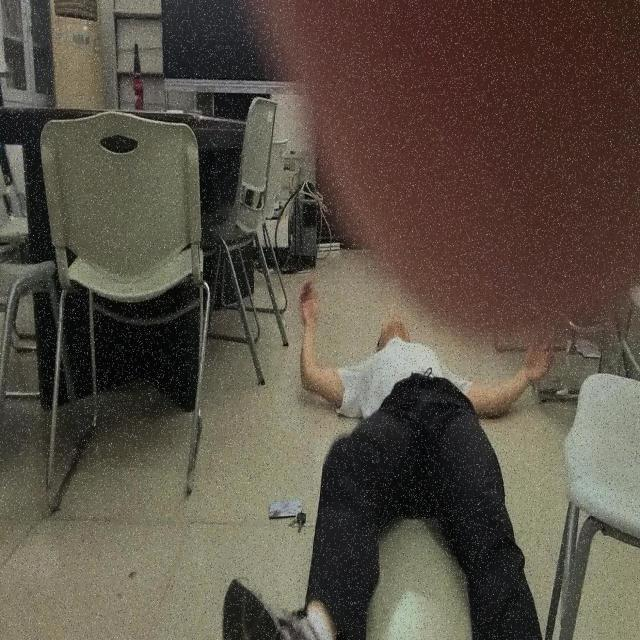fall: (221, 282, 556, 640)
